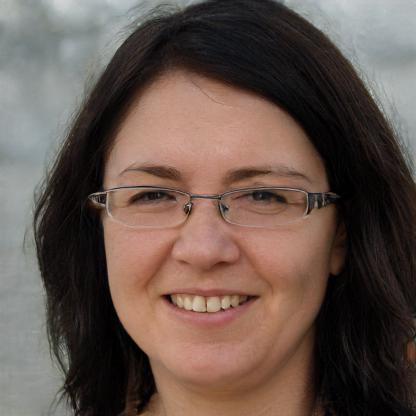glasses: (94, 178, 327, 231)
